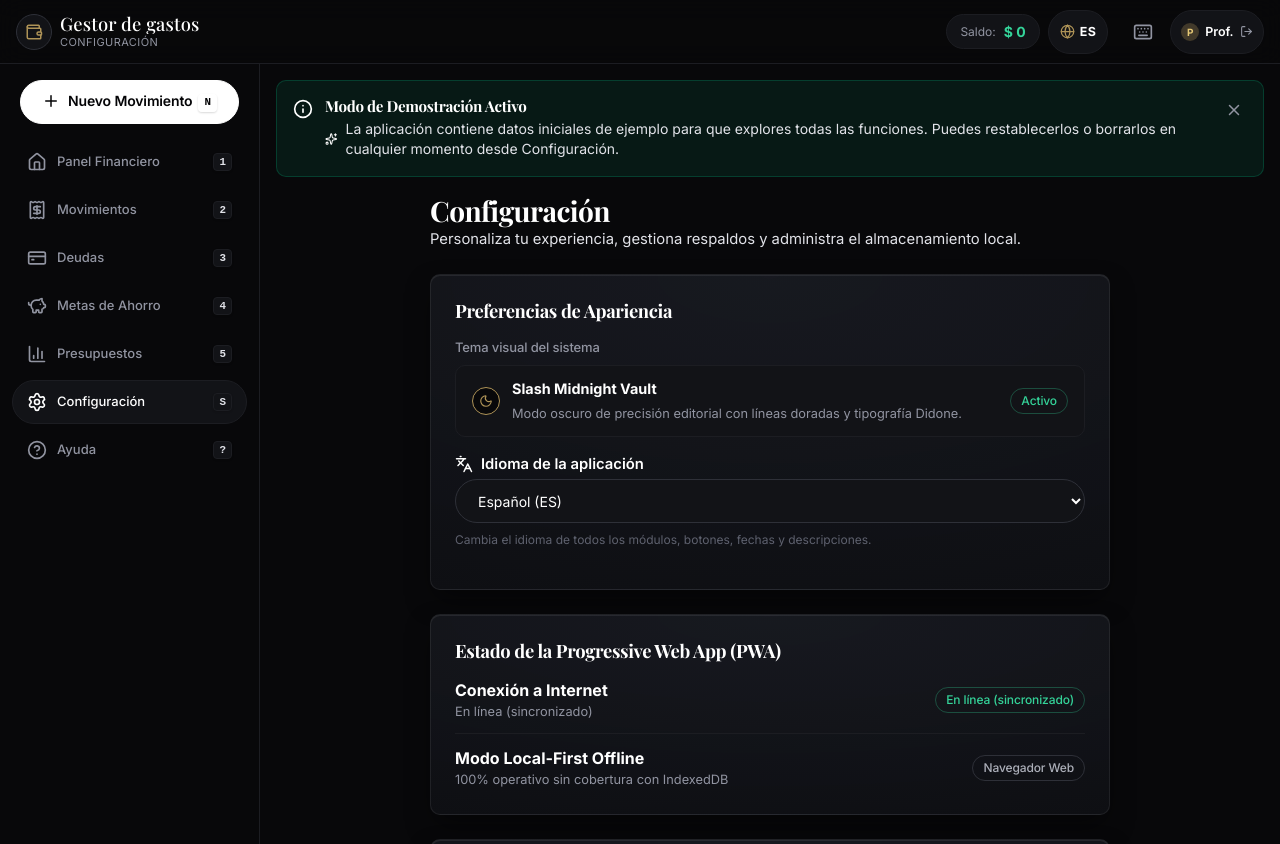
Scenario: Sistema de Idiomas (i18n) › permite alternar el idioma con el acceso directo en la cabecera superior y traduce el botón de nuevo movimiento
expect the text "Nuevo Movimiento N" is shown: met, box [68, 92, 217, 112]
# Clic en el acceso directo de la cabecera
Click the button with aria-label "Cambiar a inglés". click: (1078, 32)
box: [1048, 10, 1108, 54]
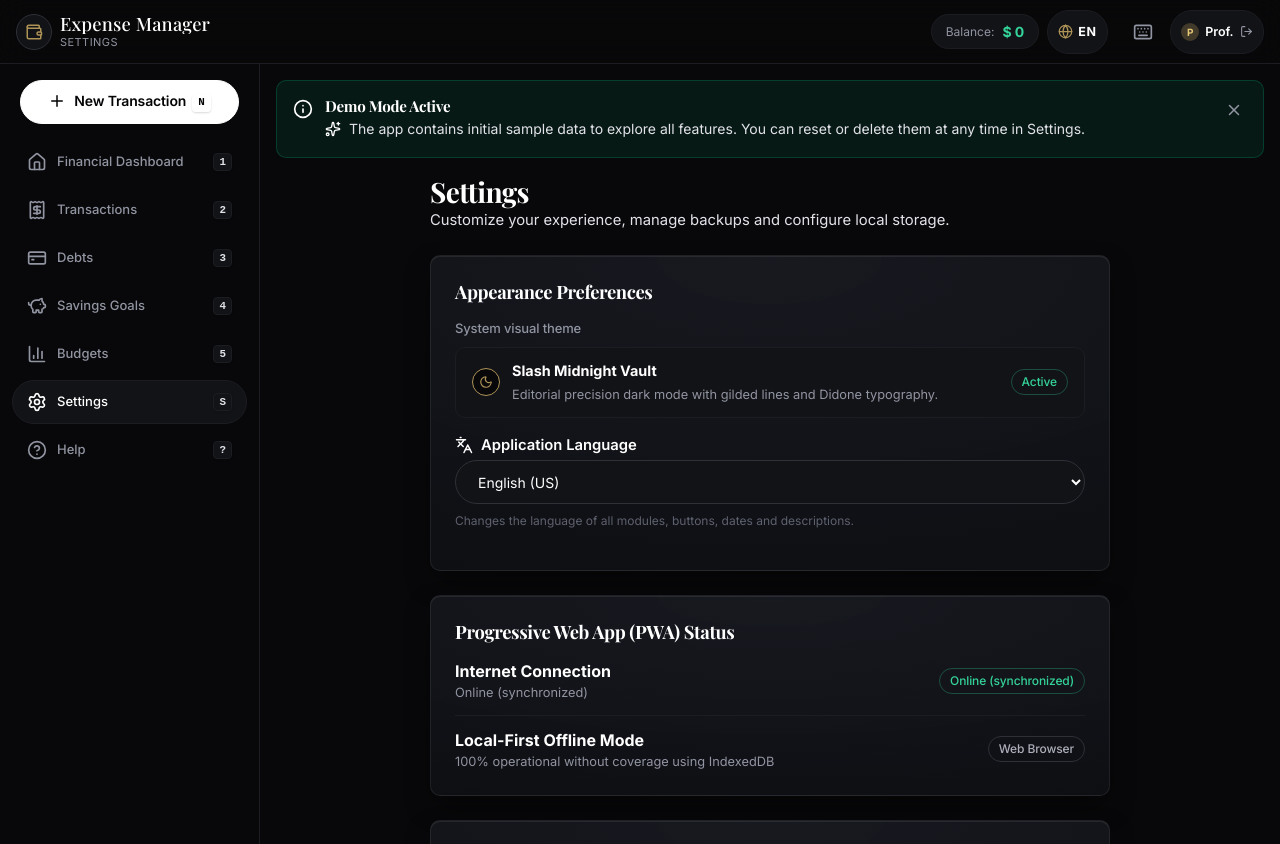
expect the button named "Cambiar a inglés" reads "EN": met
expect the text "New Transaction N" is shown: met, box [74, 92, 211, 112]
expect the button "Nuevo Movimiento" is gone: met
# Clic de nuevo para volver a español
Click the button named "Cambiar a inglés". click: (1077, 32)
box: [1047, 10, 1108, 54]
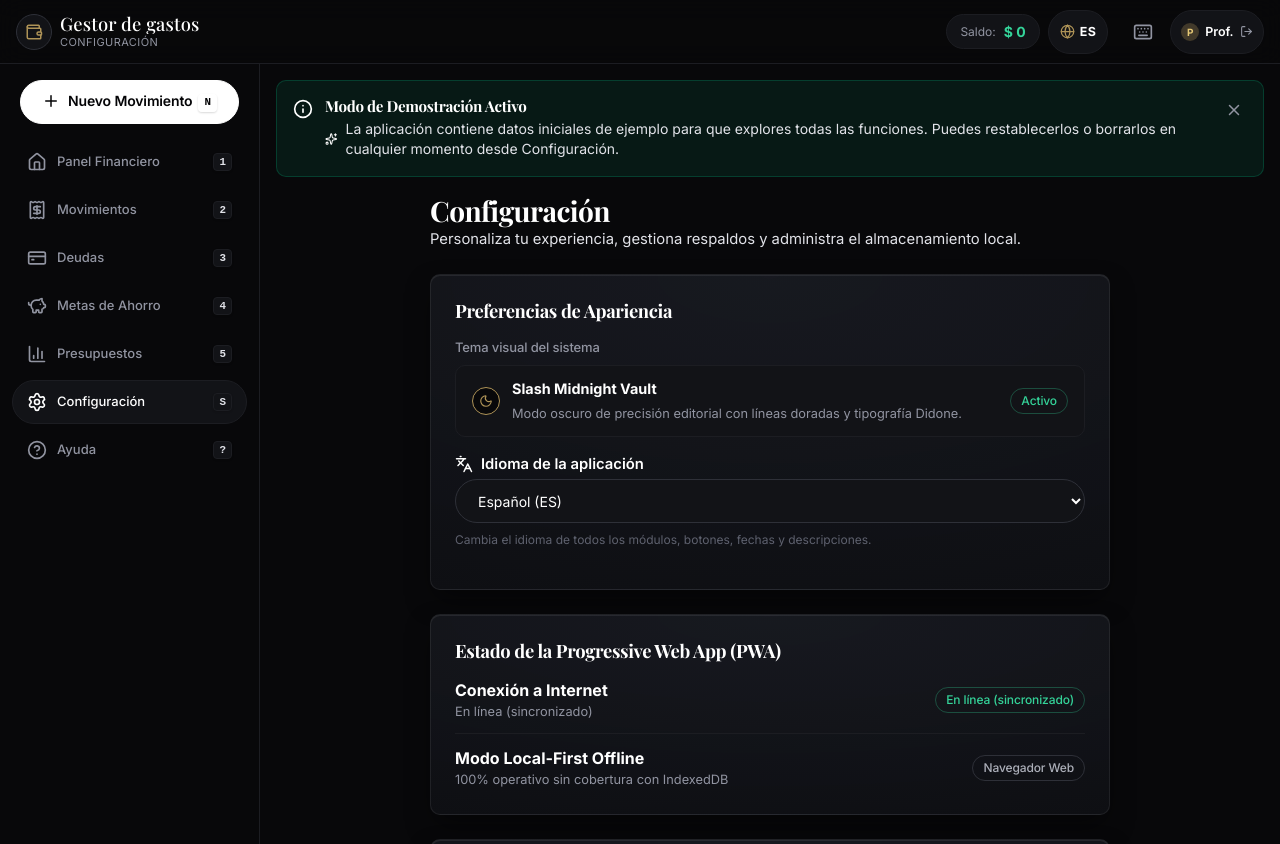
expect the button with aria-label "Cambiar a inglés" reads "ES": met, box [1048, 10, 1108, 54]
expect the text "Nuevo Movimiento N" is shown: met, box [68, 92, 217, 112]
